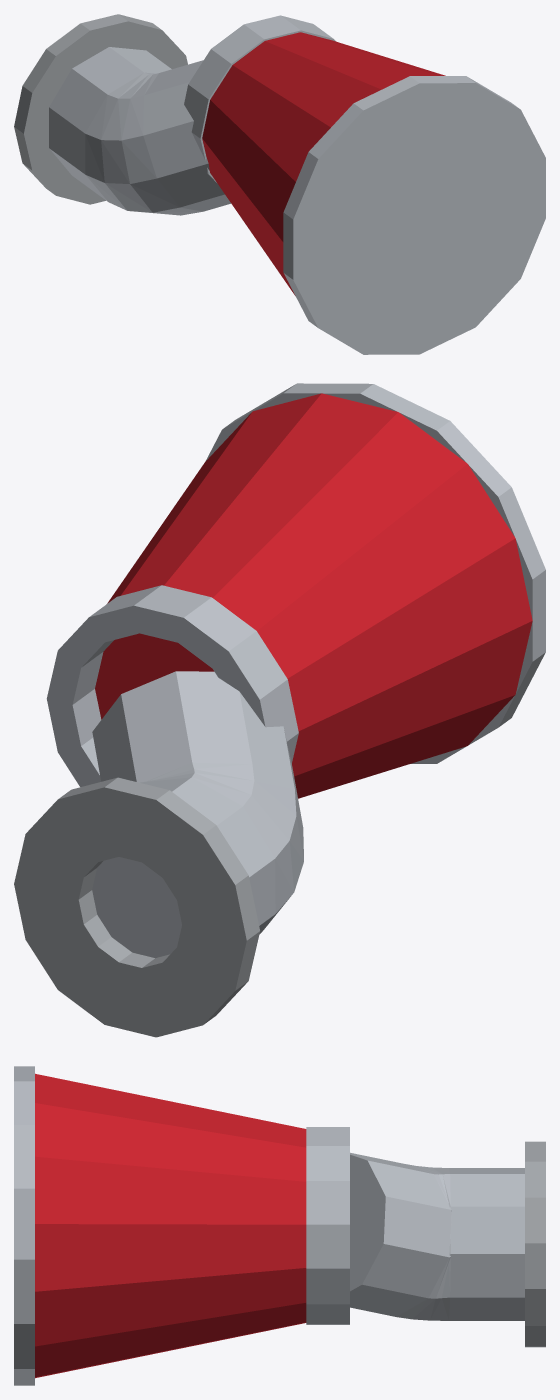
Rendered from kaze_gt.glb.
The picture shows the model from 3 angles, top to bottom: view 1: azimuth 30°, elevation 25°; view 2: azimuth 150°, elevation 25°; view 3: azimuth 270°, elevation 25°; orthographic projection. The views are drawn at different scales.
Visible parts, largest first — view 1: model; view 2: model; view 3: model.
Boxes of the visible parts, <box> form: model: <box>14,14,545,354</box>; model: <box>14,383,545,1037</box>; model: <box>14,1066,545,1385</box>.
Bounding box in the file's own units: 0.1991 × 0.1848 × 0.304.
Materials: 2 (1 with a texture image).
